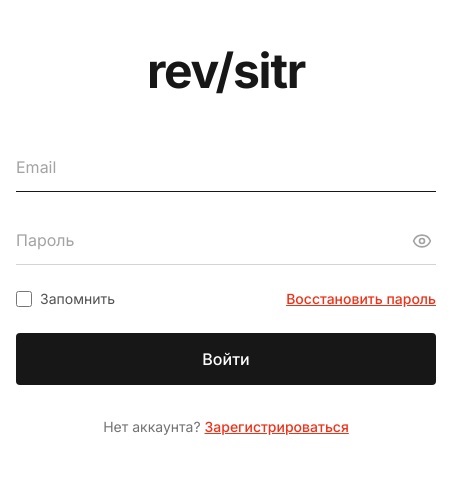
Test: LoginPage › shows backend error message and does not redirect on failure
This screenshot has width=453, height=487.
In the field labelled "Email": (226, 168) [16, 143, 436, 192], type "owner@example.com"
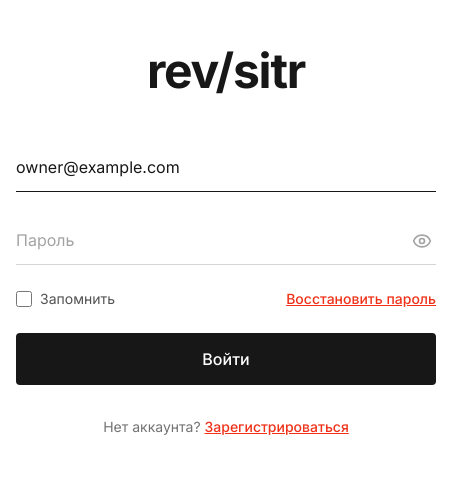
In the password field labelled "Пароль": (226, 240) [16, 216, 436, 265], type "wrongpass"
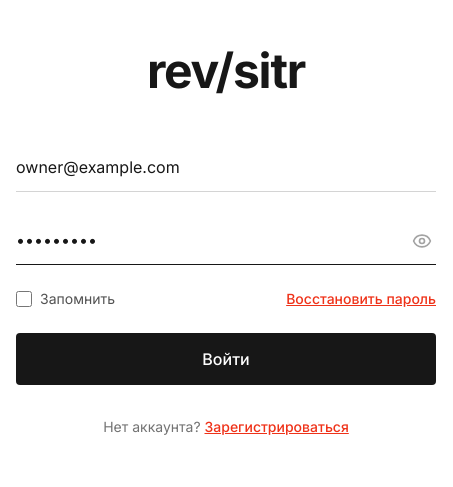
Click the button "Войти": (226, 359) [16, 333, 436, 385]
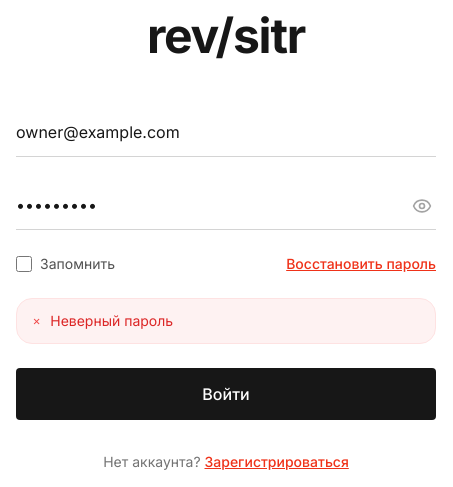
Check: the text "Неверный пароль" is shown, box [50, 311, 173, 331]
